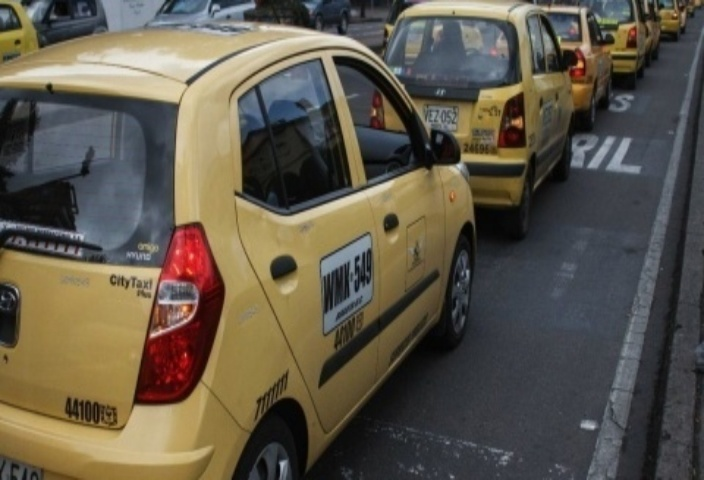taxi: (1, 30, 511, 477), (381, 1, 594, 230), (527, 1, 622, 127), (589, 1, 659, 88)
